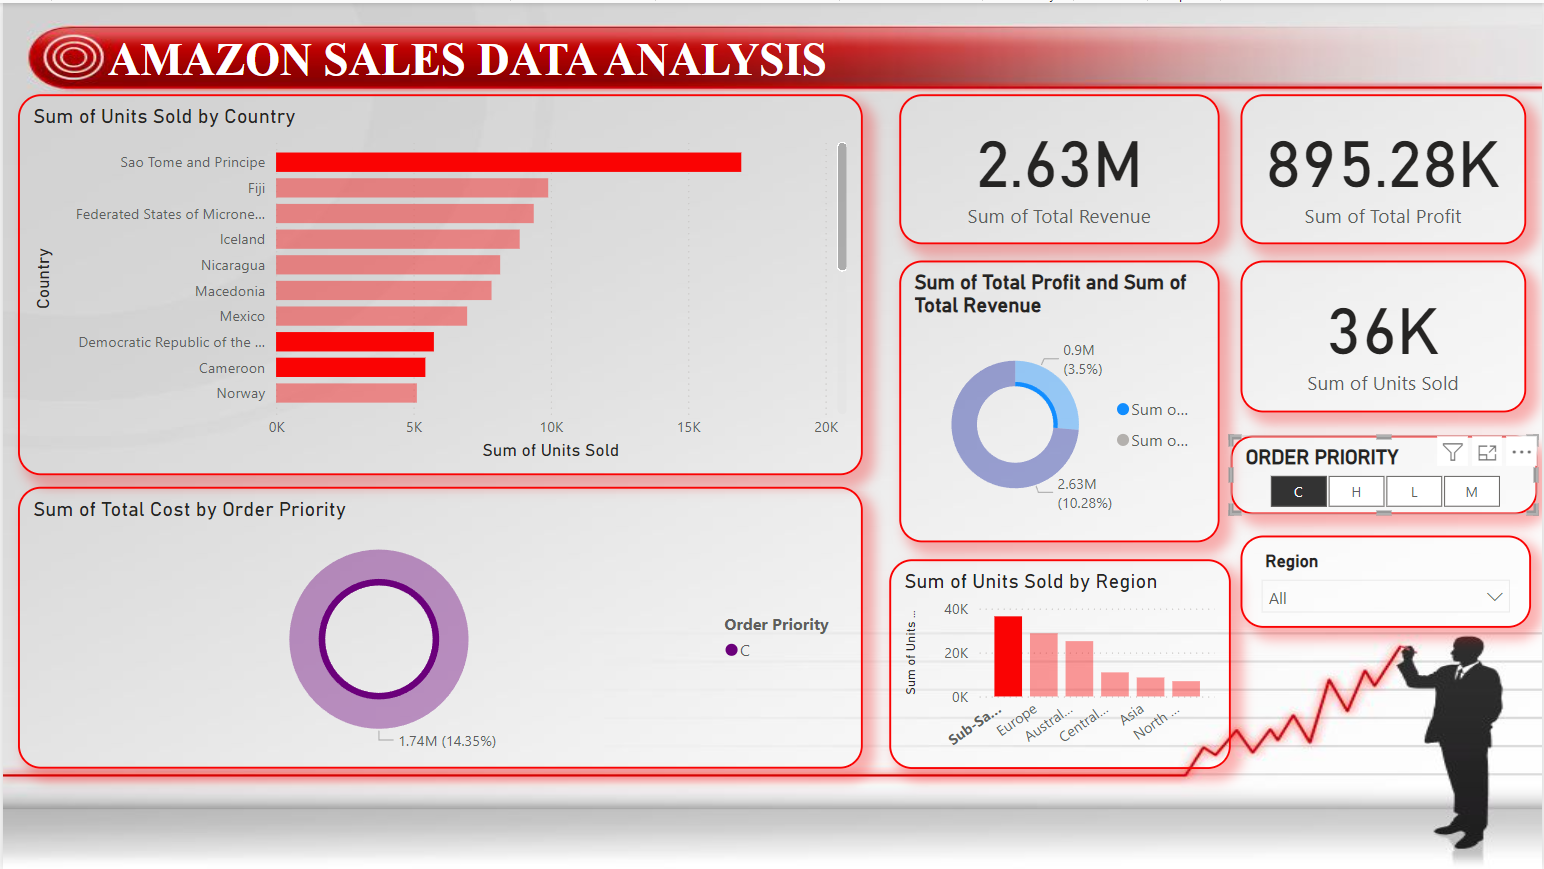

The page's visual inventory and layout, read from the dashboard file:
{"tool":"powerbi","page":{"name":"Page 1","canvas":[1280,720],"ordinal":0},"visuals":[{"type":"card","fields":{"Values":["Sum(Amazon Sales data.Units Sold)"]},"box":[1029.2,214.1,237.4,126.2],"z":0},{"type":"card","fields":{"Values":["Sum(Amazon Sales data.Total Profit)"]},"box":[1029.2,75.5,237.4,124.9],"z":1000},{"type":"card","fields":{"Values":["Sum(Amazon Sales data.Total Revenue)"]},"box":[745.1,75.5,266.2,124.9],"z":2000},{"type":"textbox","box":[82.3,20.6,662.8,64.5],"z":3000},{"type":"donutChart","fields":{"Category":["Amazon Sales data.Order Priority"],"Y":["Sum(Amazon Sales data.Total Cost)"]},"box":[12.3,402.1,702.6,234.6],"z":5000},{"type":"donutChart","fields":{"Y":["Sum(Amazon Sales data.Total Profit)","Sum(Amazon Sales data.Total Revenue)"]},"box":[745.1,214.1,266.2,234.6],"z":6000},{"type":"slicer","title":"ORDER PRIORITY","fields":{"Values":["Amazon Sales data.Order Priority"]},"box":[1020.9,359.5,255.2,65.9],"z":7000},{"type":"clusteredBarChart","fields":{"Category":["Amazon Sales data.Country"],"Y":["Sum(Amazon Sales data.Units Sold)"]},"box":[12.3,75.5,702.6,317],"z":7001},{"type":"clusteredColumnChart","fields":{"Y":["Sum(Amazon Sales data.Units Sold)"],"Category":["Amazon Sales data.Region"]},"box":[736.9,462.4,284,174.3],"z":7002},{"type":"slicer","fields":{"Values":["Amazon Sales data.Region"]},"box":[1029.2,443.2,241.5,76.8],"z":7003}]}

Visuals, with their boxes in screenshot pixels (x1, y1, x2, y2), scaled from the page's 1280x720 canvas onto the 1544x869 screenshot:
card - Sum(Amazon Sales data.Units Sold): select_region(1241, 258, 1528, 411)
card - Sum(Amazon Sales data.Total Profit): select_region(1241, 91, 1528, 242)
card - Sum(Amazon Sales data.Total Revenue): select_region(899, 91, 1220, 242)
textbox: select_region(99, 25, 899, 103)
donutChart - Amazon Sales data.Order Priority x Sum(Amazon Sales data.Total Cost): select_region(15, 485, 862, 768)
donutChart - Sum(Amazon Sales data.Total Profit) x Sum(Amazon Sales data.Total Revenue): select_region(899, 258, 1220, 542)
"ORDER PRIORITY" slicer: select_region(1231, 434, 1539, 513)
clusteredBarChart - Amazon Sales data.Country x Sum(Amazon Sales data.Units Sold): select_region(15, 91, 862, 474)
clusteredColumnChart - Sum(Amazon Sales data.Units Sold) x Amazon Sales data.Region: select_region(889, 558, 1231, 768)
slicer - Amazon Sales data.Region: select_region(1241, 535, 1533, 628)
